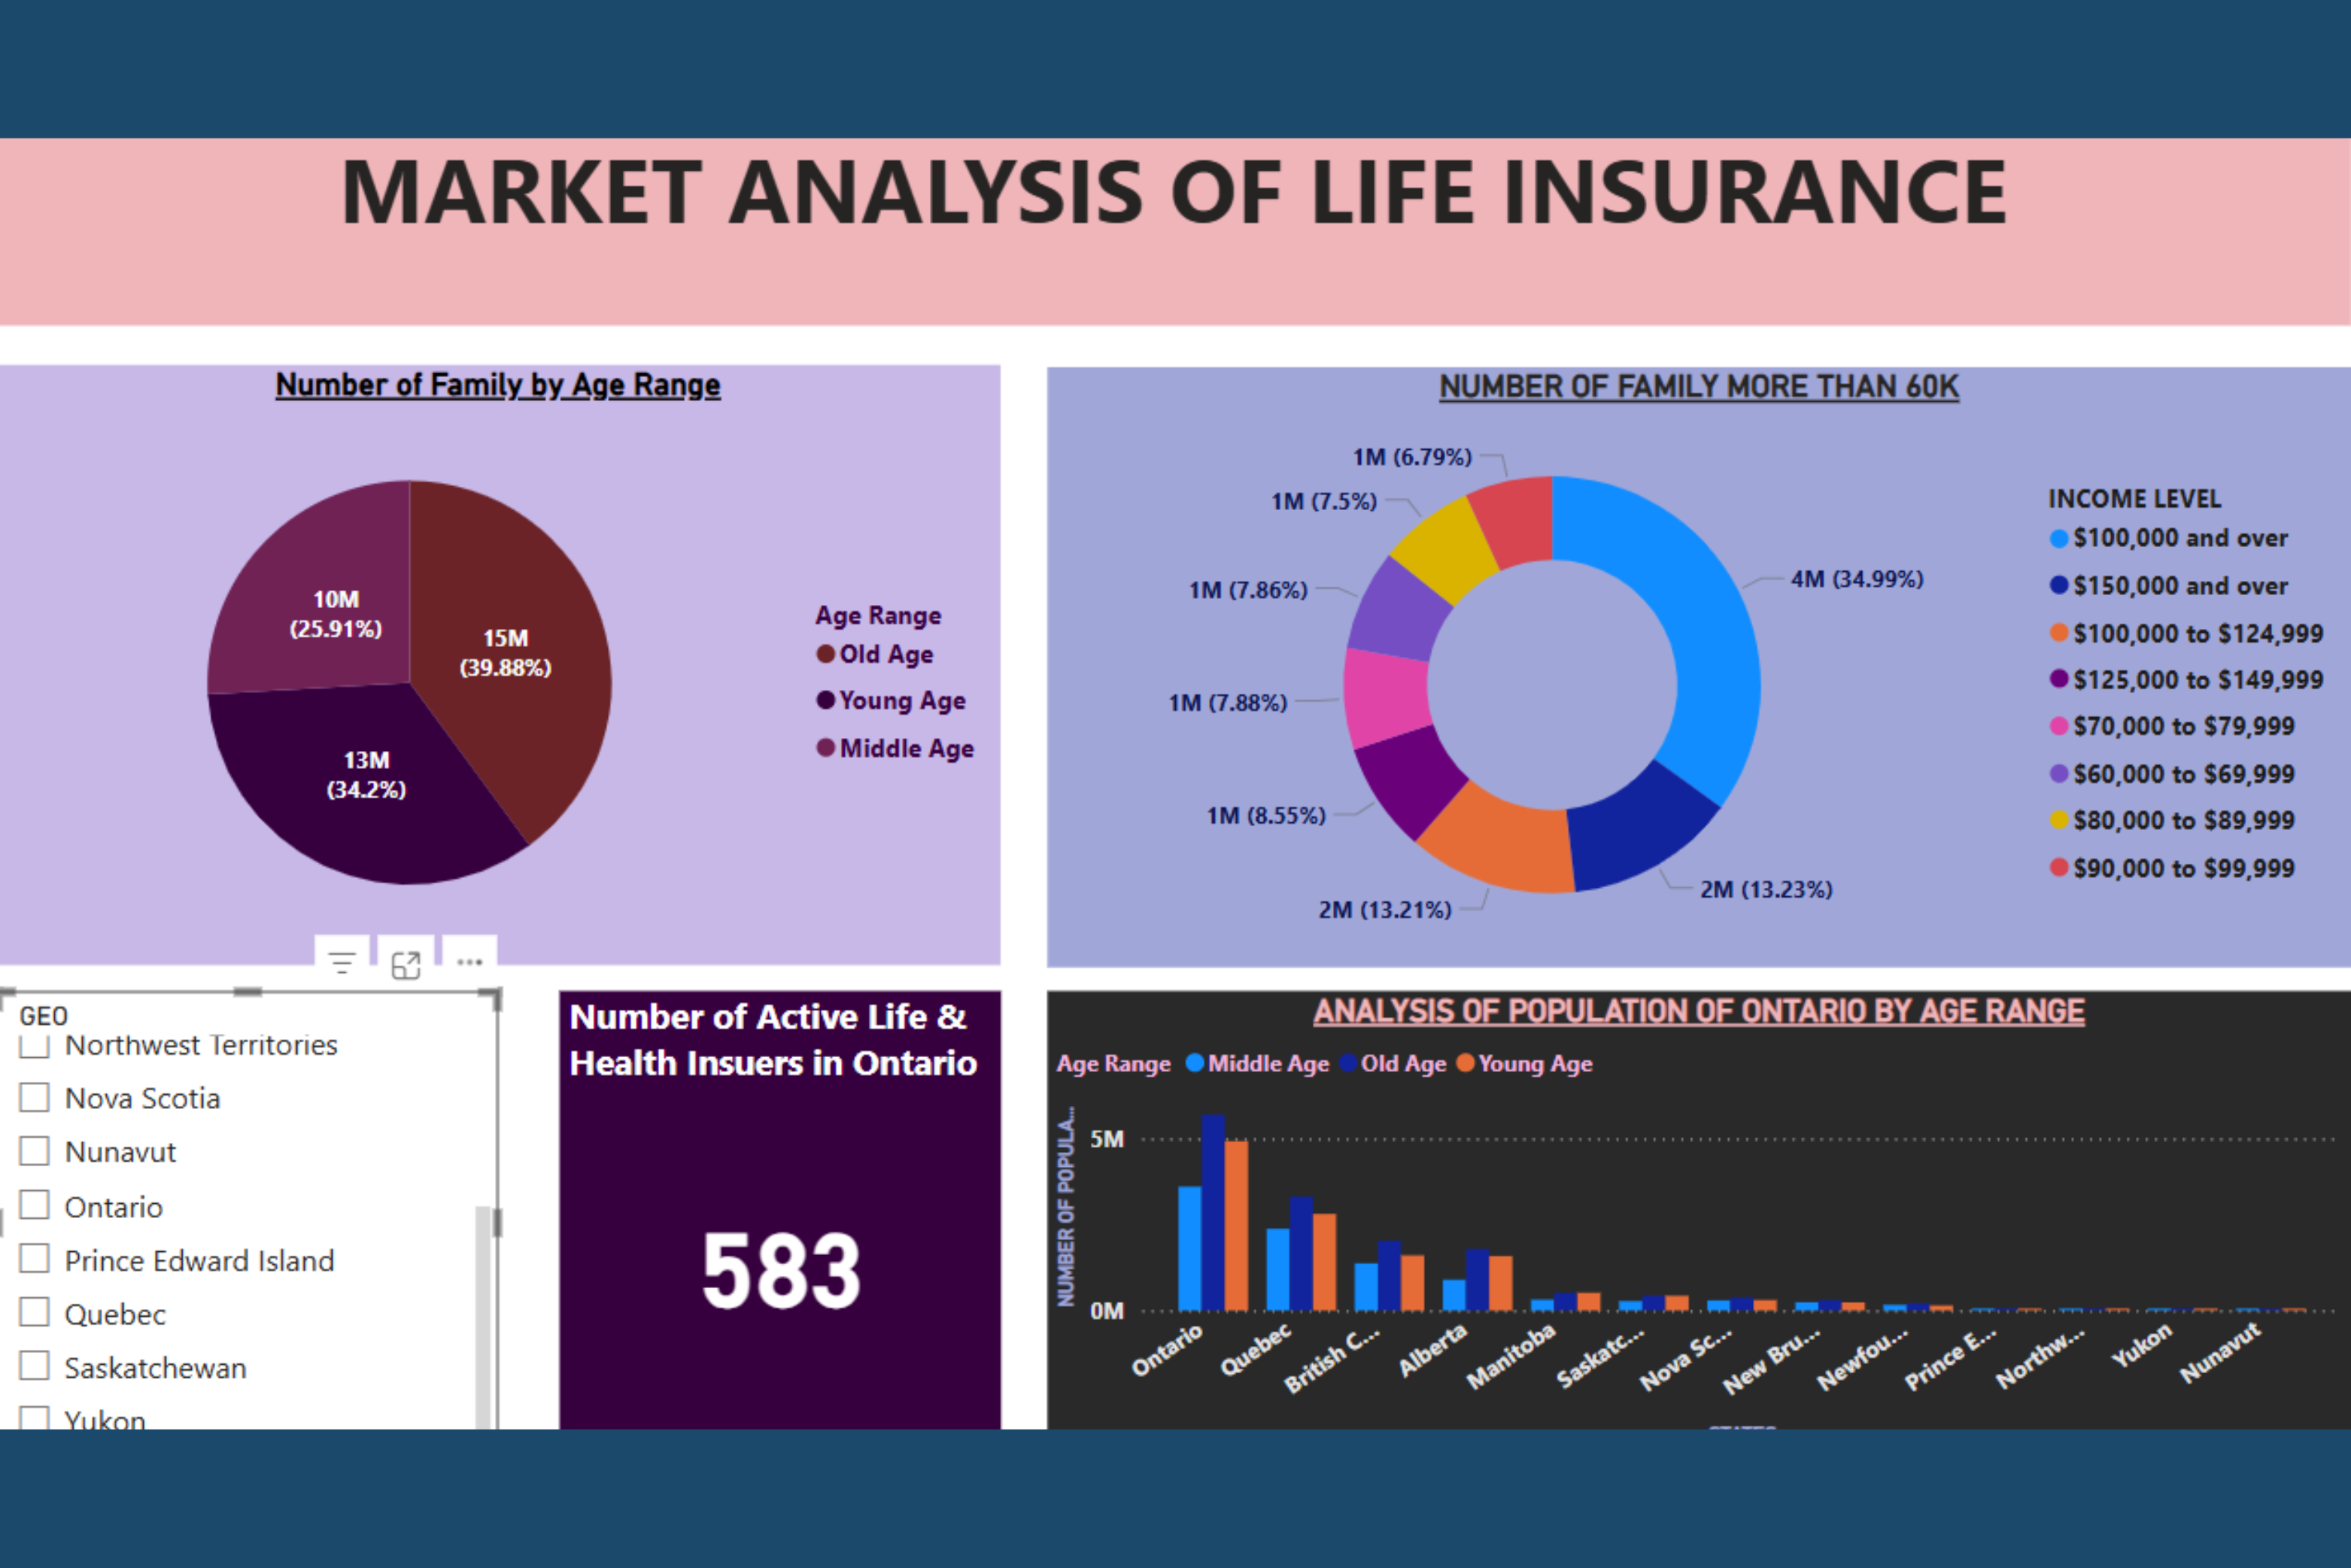

The page's visual inventory and layout, read from the dashboard file:
{"tool":"powerbi","page":{"name":"Market Analysis of Life Insurance","canvas":[1280,720],"ordinal":0},"visuals":[{"type":"clusteredColumnChart","title":"ANALYSIS OF POPULATION OF ONTARIO BY AGE RANGE ","fields":{"Category":["Age_Census.GEO"],"Y":["Sum(Age_Census.VALUE)"],"Series":["Age_Census.Age Range"]},"box":[578.4,470.2,701.6,250],"z":0},{"type":"donutChart","title":"NUMBER OF FAMILY MORE THAN 60K","fields":{"Y":["Sum(Income Level.VALUE)"],"Category":["Income Level.Census family after-tax income groups"]},"box":[578.4,134.3,701.6,323.4],"z":1000},{"type":"pieChart","title":"Number of Family by Age Range","fields":{"Category":["Age_Census.Age Range"],"Y":["Sum(Age_Census.VALUE)"]},"box":[12.4,133.1,541.1,323.4],"z":2000},{"type":"card","title":"Number of Active Life & Health Insuers in Ontario","fields":{"Values":["Sum(Market Analysis.Number of active Life and health insurers)"]},"box":[316,470.2,237.6,250],"z":3000},{"type":"slicer","fields":{"Values":["Income Level.GEO"]},"box":[12.4,470.2,271.2,250],"z":4000},{"type":"textbox","box":[12.4,0,1267.6,112],"z":5000}]}

Visuals, with their boxes on the page's 1280x720 design canvas (x1, y1, x2, y2). These are canvas units, not pixel positions in the 2351x1568 screenshot, which may show the page scaled, cropped or inside an application window:
"ANALYSIS OF POPULATION OF ONTARIO BY AGE RANGE " clusteredColumnChart: box=[578, 470, 1280, 720]
"NUMBER OF FAMILY MORE THAN 60K" donutChart: box=[578, 134, 1280, 458]
"Number of Family by Age Range" pieChart: box=[12, 133, 554, 456]
"Number of Active Life & Health Insuers in Ontario" card: box=[316, 470, 554, 720]
slicer - Income Level.GEO: box=[12, 470, 284, 720]
textbox: box=[12, 0, 1280, 112]
